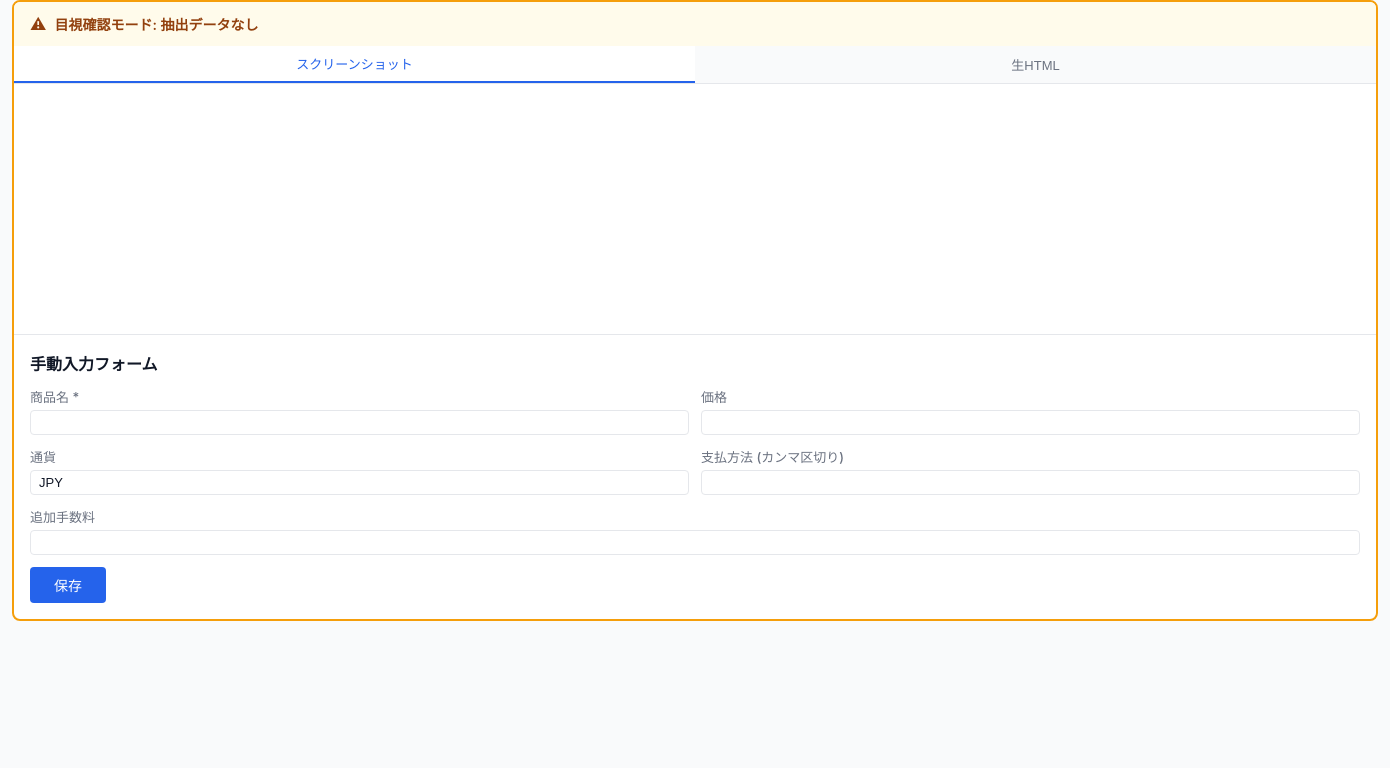
Test: VisualConfirmationPanel › shows validation error when product_name is empty on save
Step 1. Click the button "保存" → (68, 585), box x1=30 y1=567 x2=106 y2=603
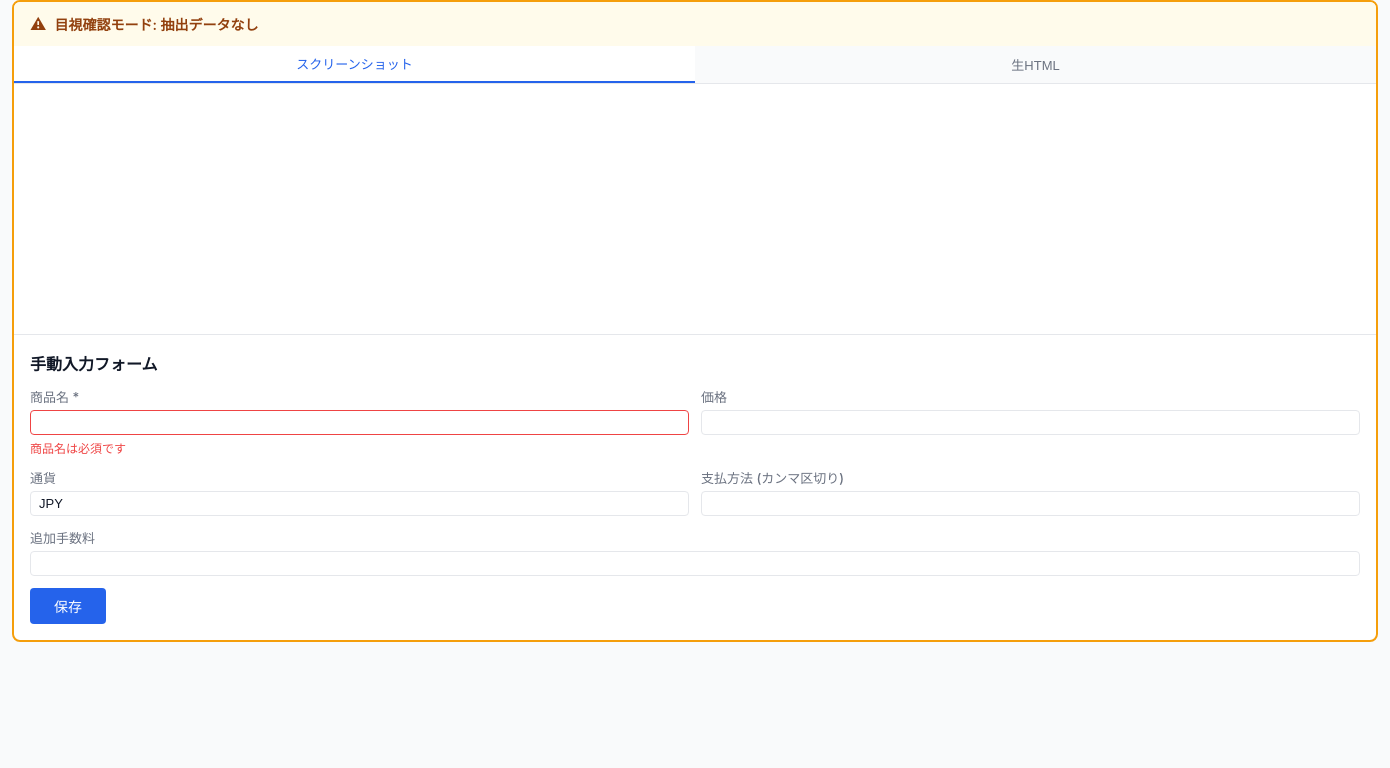
Expected: the text "商品名は必須です" is shown, x1=30 y1=441 x2=126 y2=456
